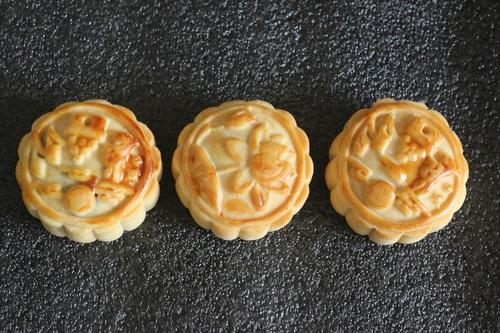MoonCake: (325, 97, 469, 247), (15, 97, 161, 241), (171, 99, 313, 239)
